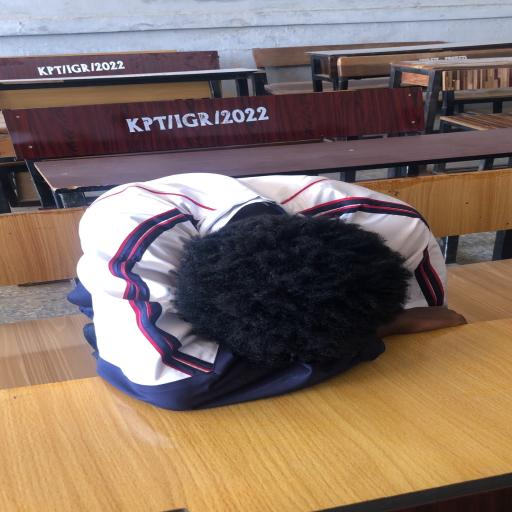Sleeping: (70, 173, 474, 414)
